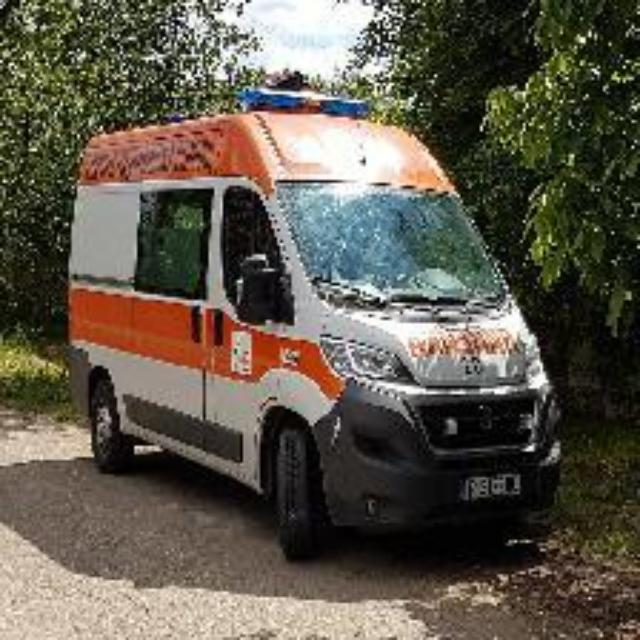emergency: (51, 123, 556, 551)
